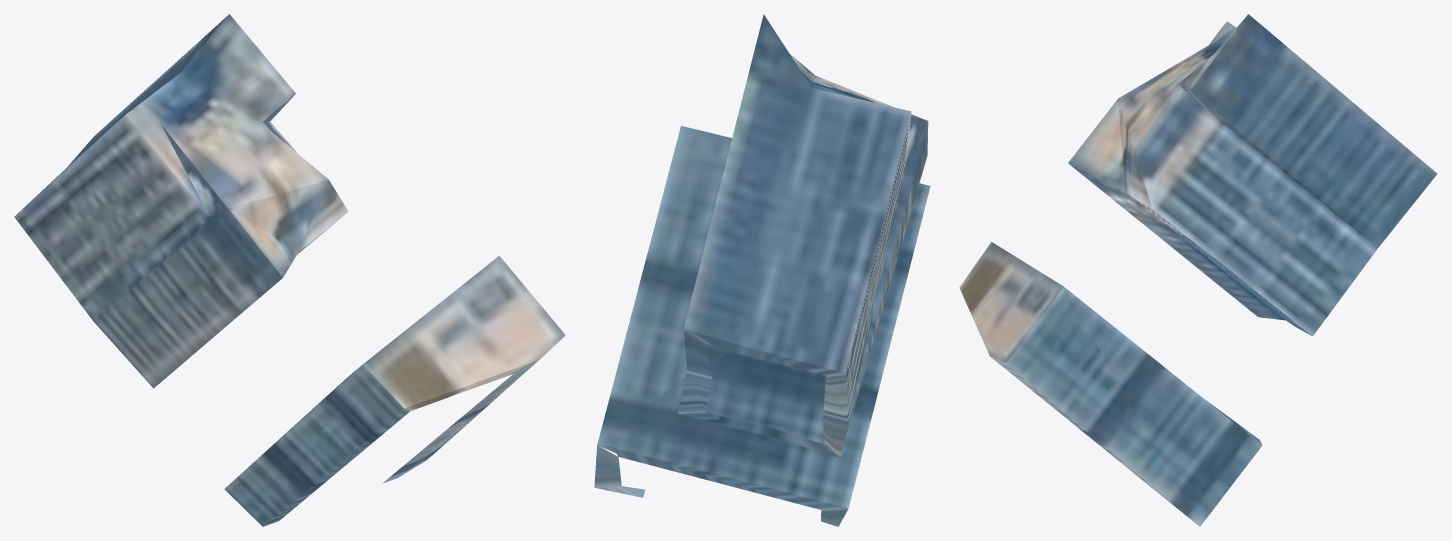
File: AJVsH2x6PhwRjvUZPlQaNqTq7xIutrRP26naN7bZ0kAuhTZx60NkJedNwgrchdA3hRHUBa-TVo8dWICECSVI7Z-d__fMaWjdp5Mz4KcUmLv2EAJ15NbQeNbTk_Avq9rZpIGFDG2ugkTuOXsJrK4LOEckiShAYvwp4Q.glb
The picture shows the model from 3 angles, left to right: view 1: azimuth 30°, elevation 25°; view 2: azimuth 150°, elevation 25°; view 3: azimuth 270°, elevation 25°; orthographic projection. The views are drawn at different scales.
Bounding box in the file's own units: 69.55 × 90.23 × 88.99.
1 material, 1 textured.
